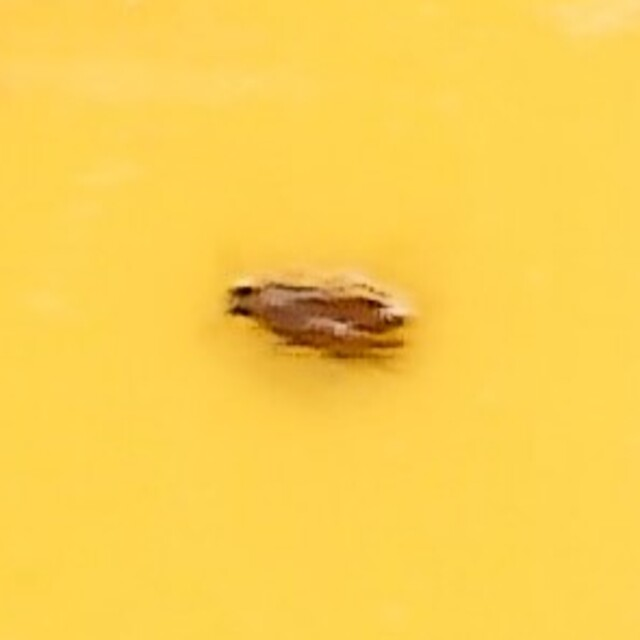Trichoptera: (217, 266, 423, 374)
